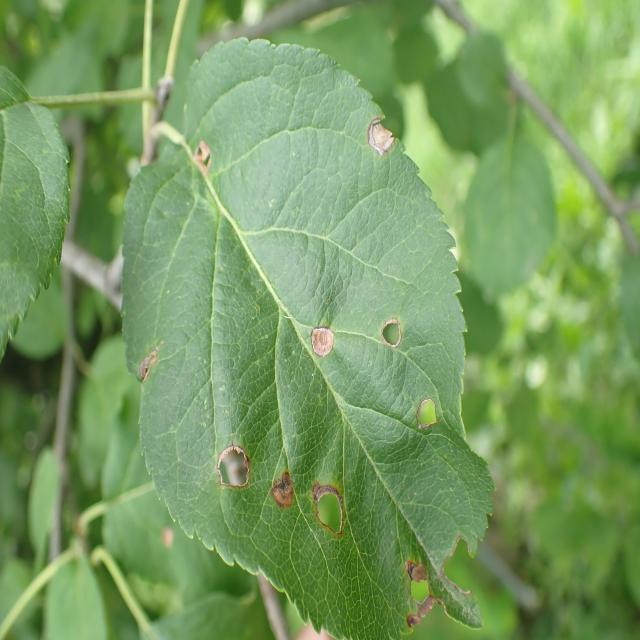Black Rot: (397, 533, 441, 640), (196, 433, 262, 504), (310, 468, 354, 552), (138, 321, 182, 404), (360, 85, 397, 182), (307, 301, 347, 386), (403, 386, 454, 442), (265, 453, 296, 525), (187, 118, 219, 184), (373, 307, 409, 351)
